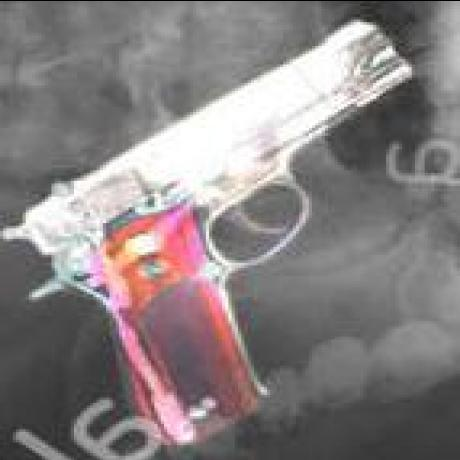weapon: (4, 0, 438, 451)
